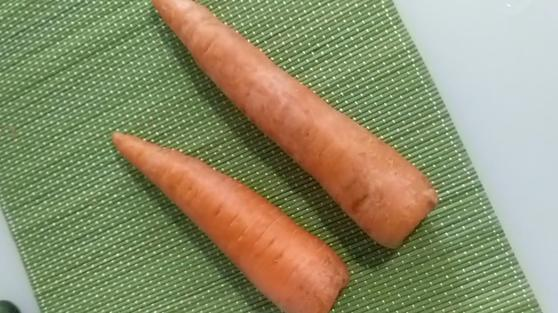carrot: (159, 2, 439, 249), (113, 130, 345, 313)
